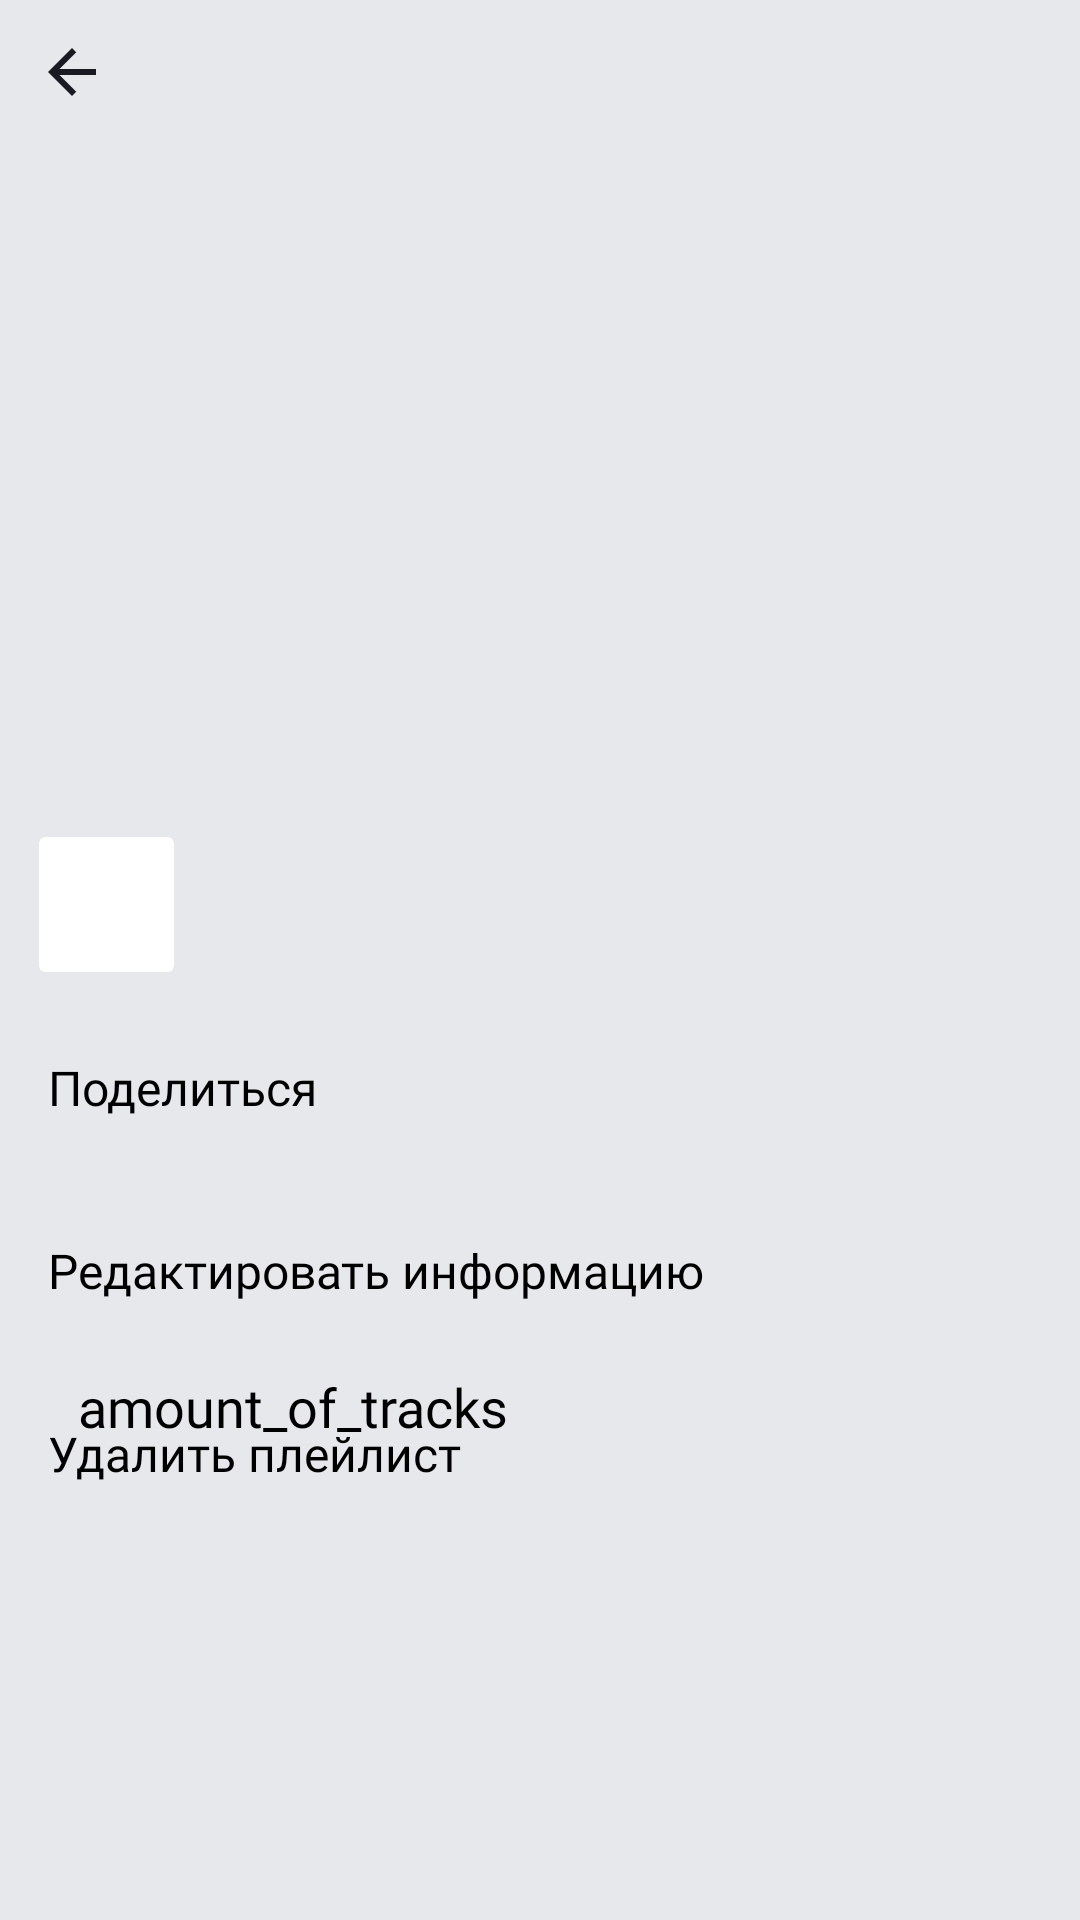

Where icons sit on this 1080*1920 app screen, as (x1, y1, x2, y2):
arrow: (48, 48, 96, 96)
